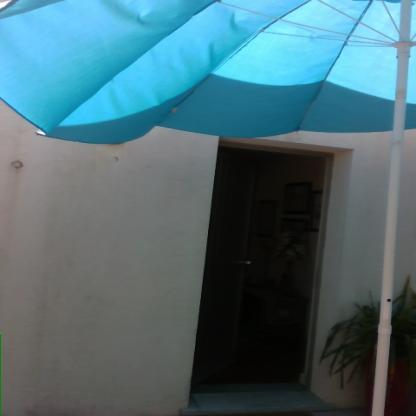open: (187, 129, 384, 416)
